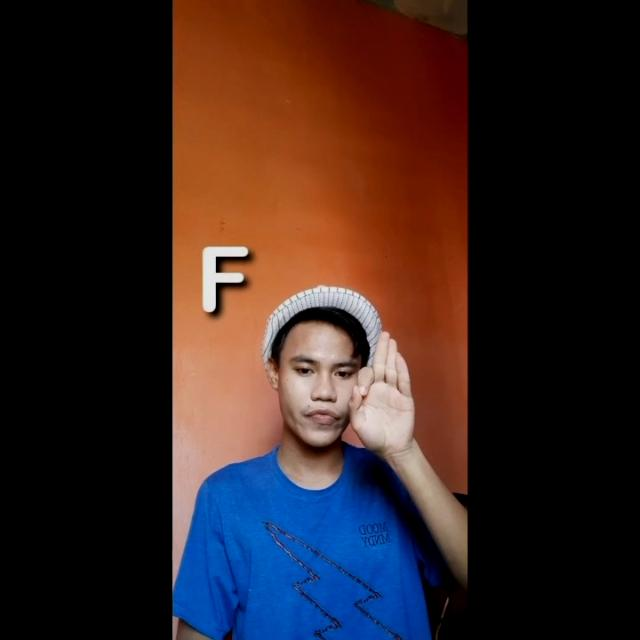F: (348, 330, 422, 448)
